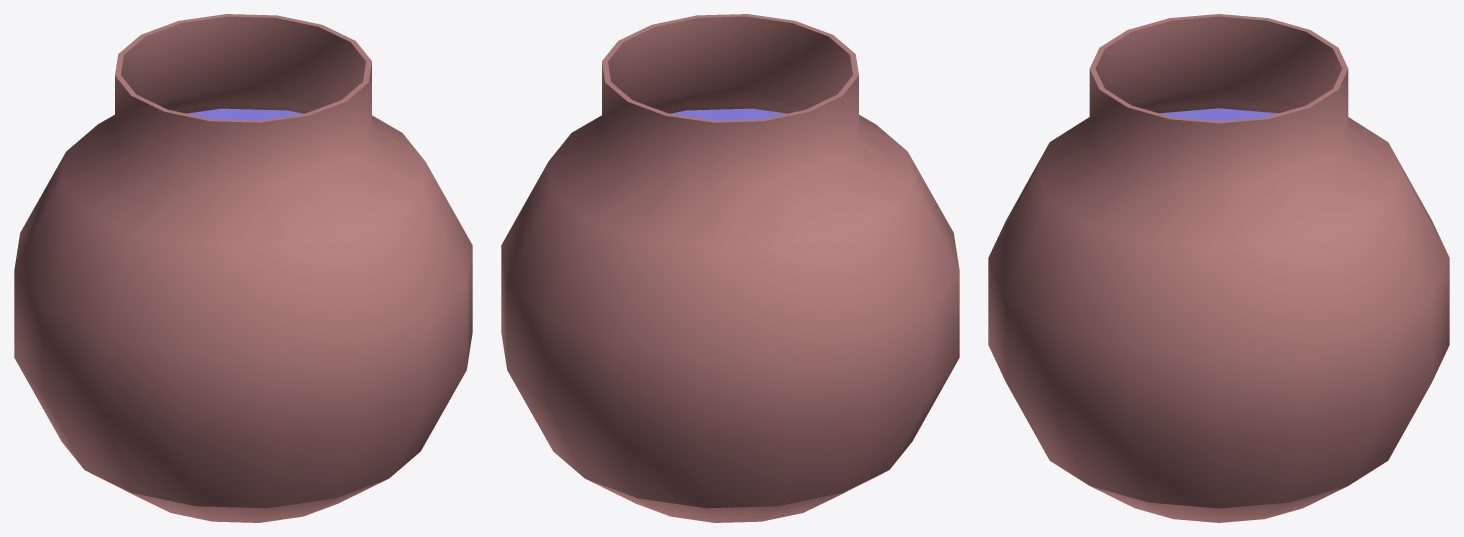
Rendered from Aquarium_01.fbx.
3 renders of one model, left to right at view 1: azimuth 30°, elevation 25°; view 2: azimuth 150°, elevation 25°; view 3: azimuth 270°, elevation 25°, orthographic.
Visible parts, largest first — view 1: Bocal001, Eau001; view 2: Bocal001, Eau001; view 3: Bocal001, Eau001.
Part boxes in pixels (box(x1,y1,x2,y2)): Bocal001: box(14, 14, 472, 522); Eau001: box(187, 108, 303, 119); Bocal001: box(501, 14, 959, 522); Eau001: box(670, 108, 786, 119); Bocal001: box(988, 14, 1449, 522); Eau001: box(1160, 108, 1277, 120).
Bounding box in the file's own units: 49.82 × 48.1 × 49.82.
